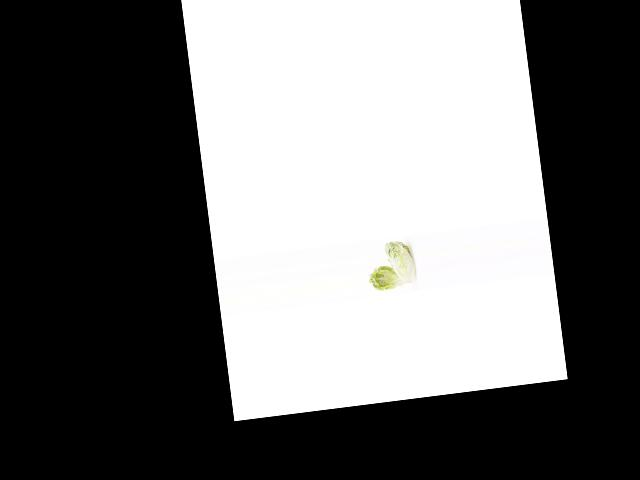lettuce: (380, 236, 418, 288)
